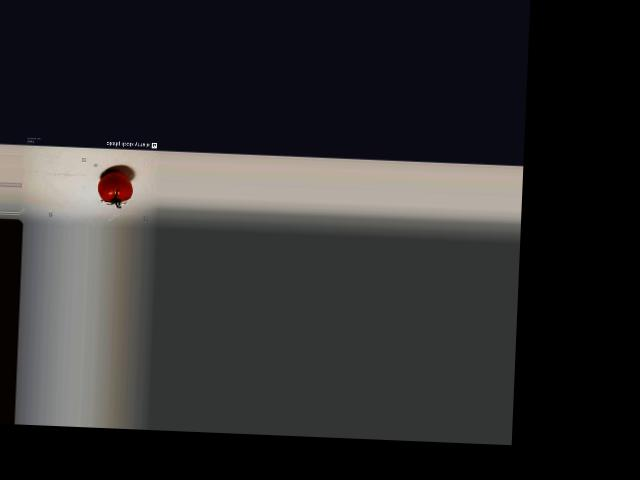tomato: (97, 170, 132, 202)
